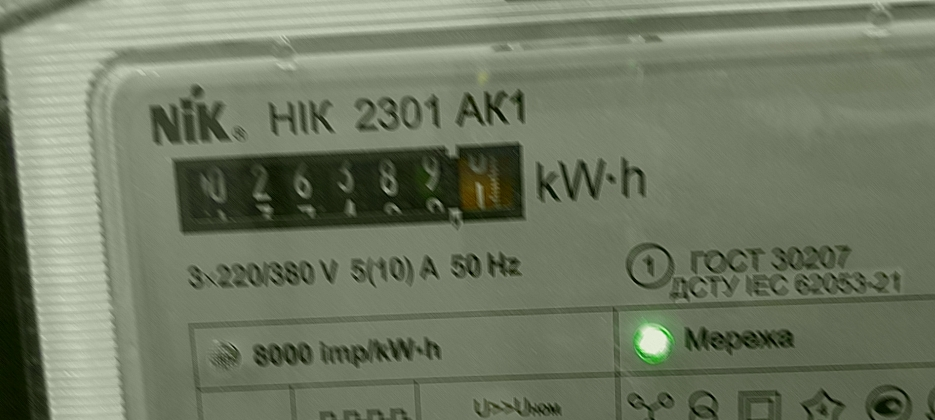0: (204, 163, 229, 203), (468, 152, 487, 173)
1: (473, 179, 487, 210)
2: (249, 162, 273, 201)
3: (336, 158, 354, 193)
6: (293, 159, 312, 199)
8: (378, 157, 400, 195)
9: (421, 155, 440, 189)
screen: (159, 130, 540, 245)
